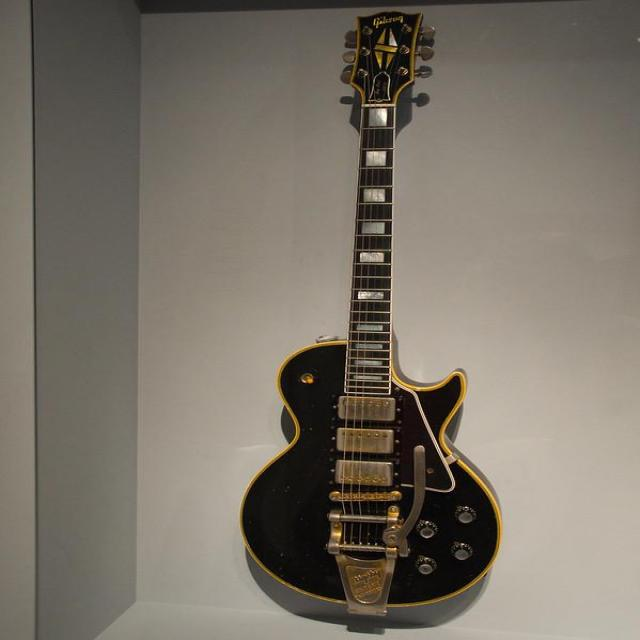guitar: (242, 12, 501, 615)
